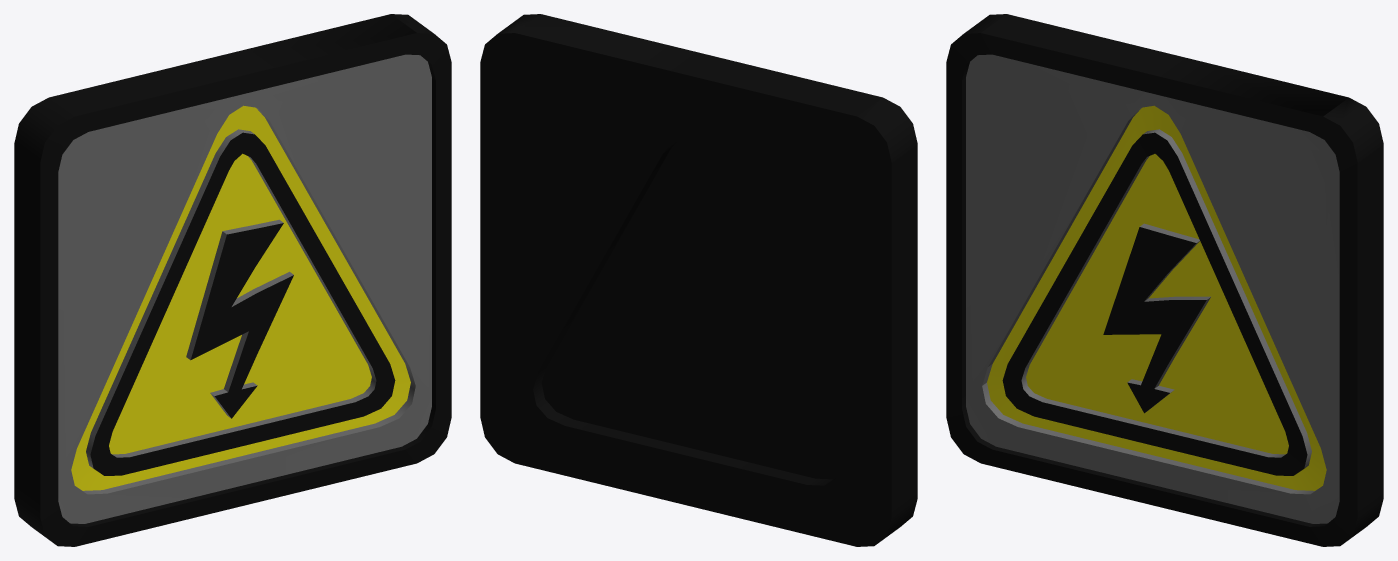
File: Electro_01.fbx
3 views of the same model, side by side, from view 1: azimuth 30°, elevation 25°; view 2: azimuth 150°, elevation 25°; view 3: azimuth 330°, elevation 25° (orthographic).
Visible parts, largest first — view 1: Electro_01; view 2: Electro_01; view 3: Electro_01.
Boxes of the visible parts, box(x1,y1,x2,y2) form: Electro_01: box(14, 14, 451, 546); Electro_01: box(480, 14, 917, 546); Electro_01: box(946, 14, 1383, 546).
Size of the model in its own units: 145 by 145 by 16.56.
